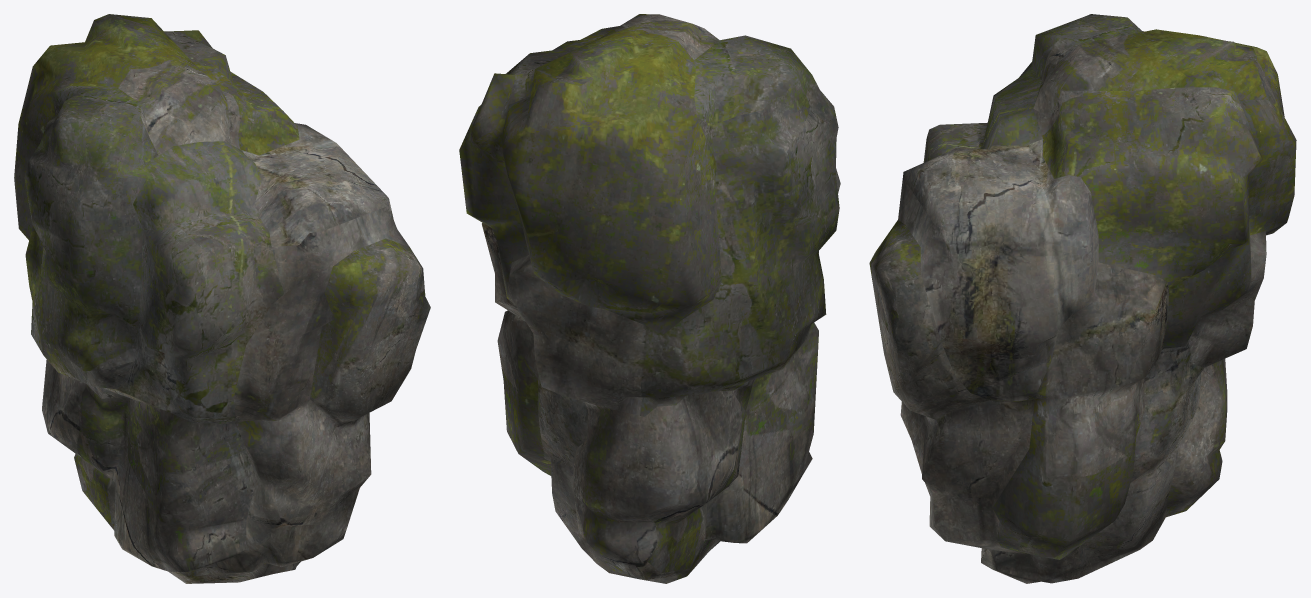
File: Rock22.fbx
3 views of the same model, side by side, from view 1: azimuth 30°, elevation 25°; view 2: azimuth 150°, elevation 25°; view 3: azimuth 270°, elevation 25° (orthographic). The views are drawn at different scales.
Parts seen in each view (by area): view 1: LV_Veolan_Rock_CliffSmall02_SM_KSS; view 2: LV_Veolan_Rock_CliffSmall02_SM_KSS; view 3: LV_Veolan_Rock_CliffSmall02_SM_KSS.
Boxes of the visible parts, bbox=[...] form: LV_Veolan_Rock_CliffSmall02_SM_KSS: bbox=[14, 14, 430, 583]; LV_Veolan_Rock_CliffSmall02_SM_KSS: bbox=[459, 14, 840, 583]; LV_Veolan_Rock_CliffSmall02_SM_KSS: bbox=[869, 14, 1296, 583].
Bounding box in the file's own units: 3.11 × 4.99 × 3.73.
1 material, 1 textured.
